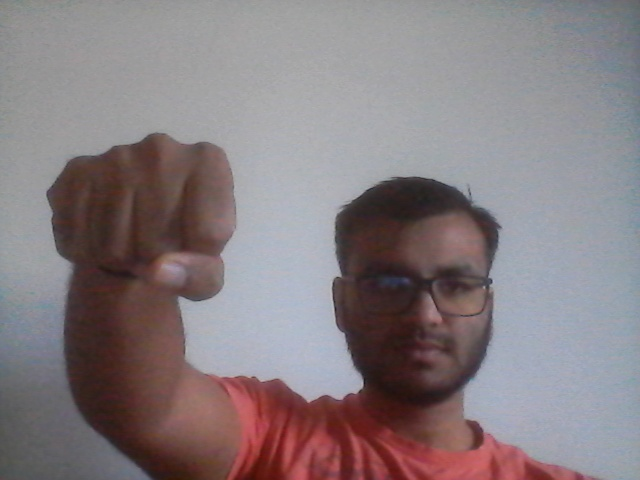Thanks: (33, 126, 260, 304)
